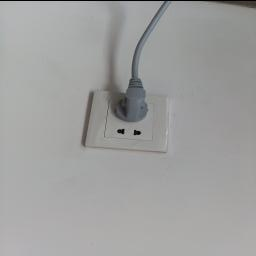outlet: (84, 85, 176, 156)
